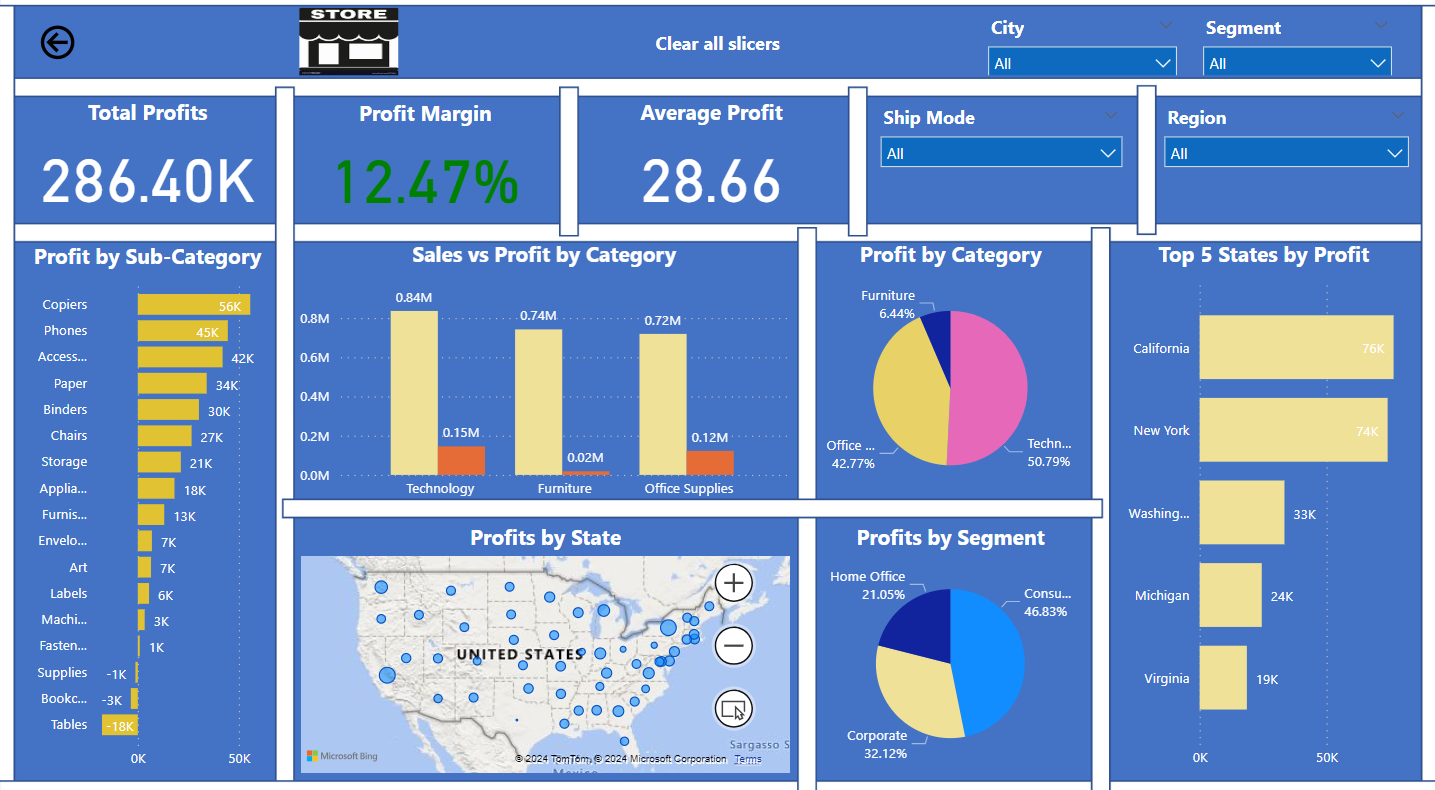

Layout of this report page (visuals, bound fields, positions):
{"tool":"powerbi","page":{"name":"Profits","canvas":[1280,720],"ordinal":2},"visuals":[{"type":"card","title":"Total Profits","fields":{"Values":["Sum(SampleSuperstore.Profit)"]},"box":[17.8,96,229,109.7],"z":0},{"type":"map","title":"Profits by State","fields":{"Size":["Sum(SampleSuperstore.Profit)"],"Category":["SampleSuperstore.State"]},"box":[263.2,474.4,445.6,227.6],"z":1000},{"type":"card","title":"Profit  Margin","fields":{"Values":["SampleSuperstore.profit margin"]},"box":[262.7,96.3,233.8,110],"z":2000},{"type":"barChart","title":"Profit by Sub-Category","fields":{"Y":["Sum(SampleSuperstore.Profit)"],"Category":["SampleSuperstore.Sub-Category"]},"box":[17.8,223.5,229,478.5],"z":3000},{"type":"card","title":"Average Profit","fields":{"Values":["Avg(SampleSuperstore.Profit)"]},"box":[516.9,96,235.8,109.7],"z":4000},{"type":"pieChart","title":"Profit by Category","fields":{"Y":["Sum(SampleSuperstore.Profit)"],"Category":["SampleSuperstore.Category"]},"box":[729,222.8,236.6,239.3],"z":5000},{"type":"clusteredColumnChart","title":"Sales vs Profit by Category","fields":{"Category":["SampleSuperstore.Category"],"Y":["Sum(SampleSuperstore.Sales)","Sum(SampleSuperstore.Profit)"]},"box":[262.7,222.8,445.7,239.3],"z":6000},{"type":"pieChart","title":"Profits by Segment","fields":{"Y":["Sum(SampleSuperstore.Profit)"],"Category":["SampleSuperstore.Segment"]},"box":[729,474.5,236.6,227],"z":7000},{"type":"barChart","title":"Top 5 States by Profit","fields":{"Y":["Sum(SampleSuperstore.Profit)"],"Category":["SampleSuperstore.State"]},"box":[987.6,222.8,277.8,478.7],"z":8000},{"type":"slicer","fields":{"Values":["SampleSuperstore.Ship Mode"]},"box":[774.4,96.3,235.2,110],"z":9000},{"type":"slicer","fields":{"Values":["SampleSuperstore.Region"]},"box":[1027.5,96.3,238,110],"z":10000},{"type":"slicer","fields":{"Values":["SampleSuperstore.City"]},"box":[870.7,16.5,188.4,59.1],"z":11000},{"type":"slicer","fields":{"Values":["SampleSuperstore.Segment"]},"box":[1061.9,16.5,188.4,59.1],"z":12000},{"type":"image","box":[262.7,11,97.7,70.1],"z":13000},{"type":"actionButton","box":[32.6,26.5,100.1,39.8],"z":14000},{"type":"actionButton","box":[539.3,21.7,200.3,49.5],"z":15000}]}

Visuals, with their boxes in screenshot pixels (x1, y1, x2, y2), scaled from the page's 1280x720 canvas onto the 1435x790 screenshot:
"Total Profits" card: (left=20, top=105, right=277, bottom=226)
"Profits by State" map: (left=295, top=521, right=795, bottom=770)
"Profit  Margin" card: (left=295, top=106, right=557, bottom=226)
"Profit by Sub-Category" barChart: (left=20, top=245, right=277, bottom=770)
"Average Profit" card: (left=579, top=105, right=844, bottom=226)
"Profit by Category" pieChart: (left=817, top=244, right=1083, bottom=507)
"Sales vs Profit by Category" clusteredColumnChart: (left=295, top=244, right=794, bottom=507)
"Profits by Segment" pieChart: (left=817, top=521, right=1083, bottom=770)
"Top 5 States by Profit" barChart: (left=1107, top=244, right=1419, bottom=770)
slicer - SampleSuperstore.Ship Mode: (left=868, top=106, right=1132, bottom=226)
slicer - SampleSuperstore.Region: (left=1152, top=106, right=1419, bottom=226)
slicer - SampleSuperstore.City: (left=976, top=18, right=1187, bottom=83)
slicer - SampleSuperstore.Segment: (left=1190, top=18, right=1402, bottom=83)
image: (left=295, top=12, right=404, bottom=89)
actionButton: (left=37, top=29, right=149, bottom=73)
actionButton: (left=605, top=24, right=829, bottom=78)
